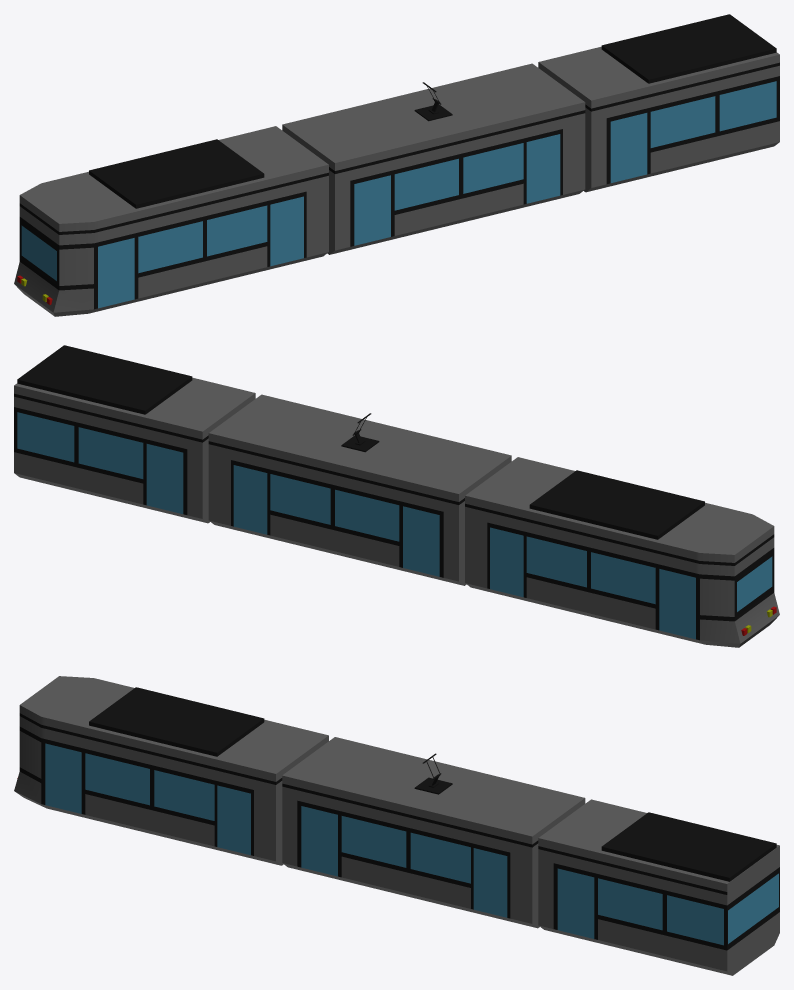
The model's file is train.obj.
3 views of the same model, one above another, from view 1: azimuth 30°, elevation 25°; view 2: azimuth 150°, elevation 25°; view 3: azimuth 330°, elevation 25° (orthographic).
Parts seen in each view (by area): view 1: Cube.001_Cube.002; view 2: Cube.001_Cube.002; view 3: Cube.001_Cube.002.
Part boxes in pixels (box(x1,y1,x2,y2)): Cube.001_Cube.002: box(14, 14, 779, 316); Cube.001_Cube.002: box(14, 345, 779, 647); Cube.001_Cube.002: box(14, 676, 779, 975).
Size of the model in its own units: 18.47 by 3.02 by 2.35.
